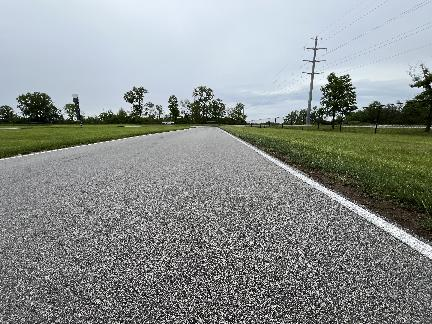Grass: (222, 127, 432, 242), (0, 125, 188, 157)
Lane: (0, 128, 431, 323)
